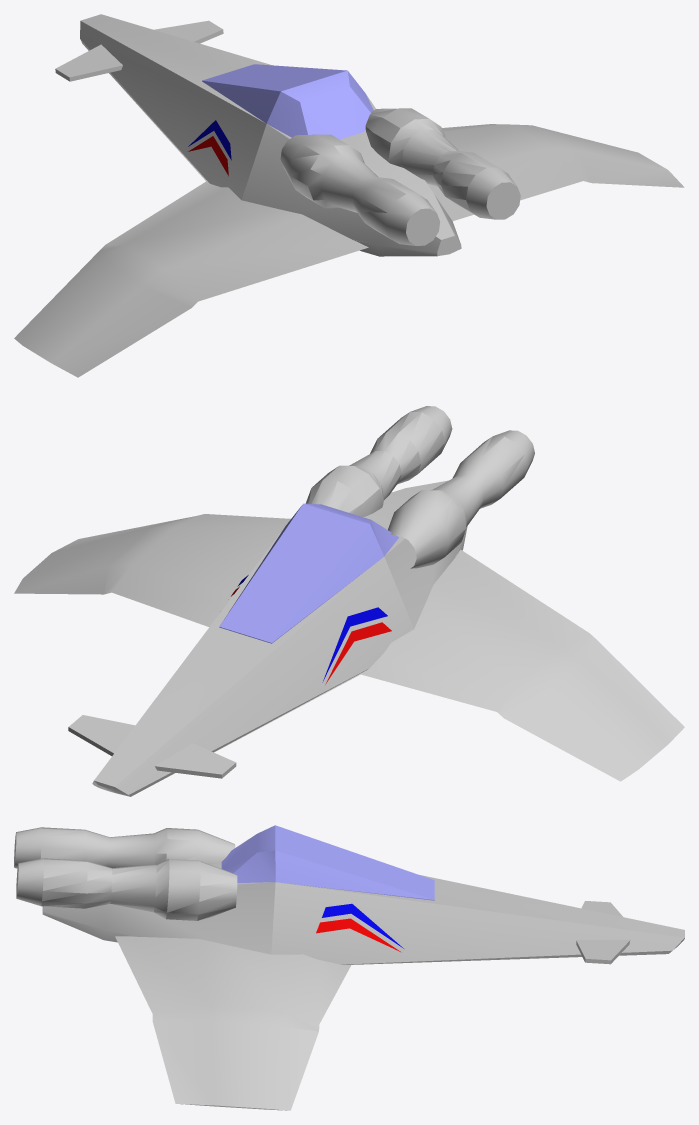
The model's file is fighter.obj.
The picture shows the model from 3 angles, top to bottom: view 1: azimuth 30°, elevation 25°; view 2: azimuth 150°, elevation 25°; view 3: azimuth 270°, elevation 25°; orthographic projection. The views are drawn at different scales.
Visible parts, largest first — view 1: XOBJ; view 2: XOBJ; view 3: XOBJ.
Boxes of the visible parts, bbox=[...] form: XOBJ: bbox=[14, 14, 684, 377]; XOBJ: bbox=[14, 406, 684, 796]; XOBJ: bbox=[14, 825, 684, 1110].
Bounding box in the file's own units: 12.93 × 3.88 × 13.56.
